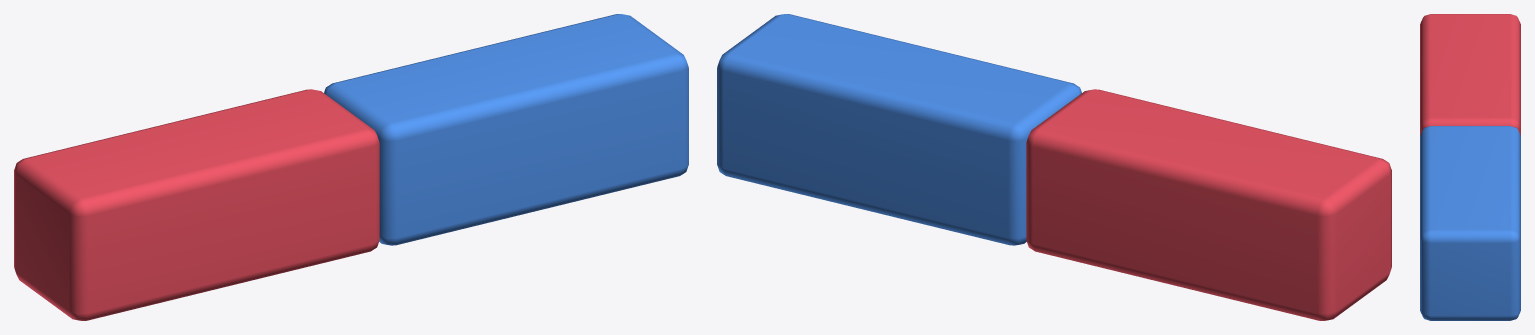
Rendered from bar-magnet-lite.glb.
3 views of the same model, side by side, from view 1: azimuth 30°, elevation 25°; view 2: azimuth 150°, elevation 25°; view 3: azimuth 270°, elevation 25° (orthographic). The views are drawn at different scales.
Visible parts, largest first — view 1: North; view 2: North; view 3: North.
Boxes of the visible parts, left/top/right/bottom form: North: left=14, top=14, right=688, bottom=320; North: left=717, top=14, right=1391, bottom=320; North: left=1420, top=14, right=1520, bottom=320.
Bounding box in the file's own units: 2 × 0.38 × 0.38.
